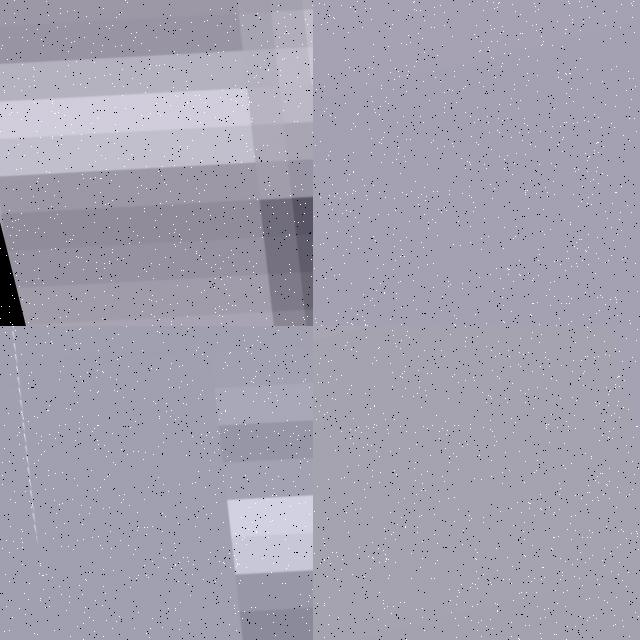drone: (0, 0, 313, 326), (0, 326, 313, 640)
